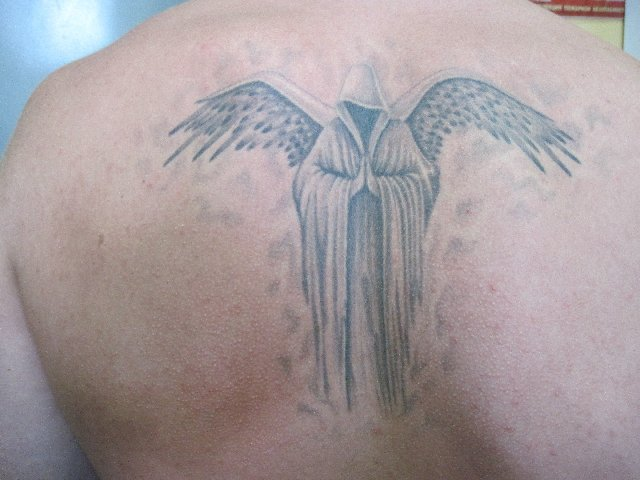tatu1_angel: (160, 47, 590, 450)
